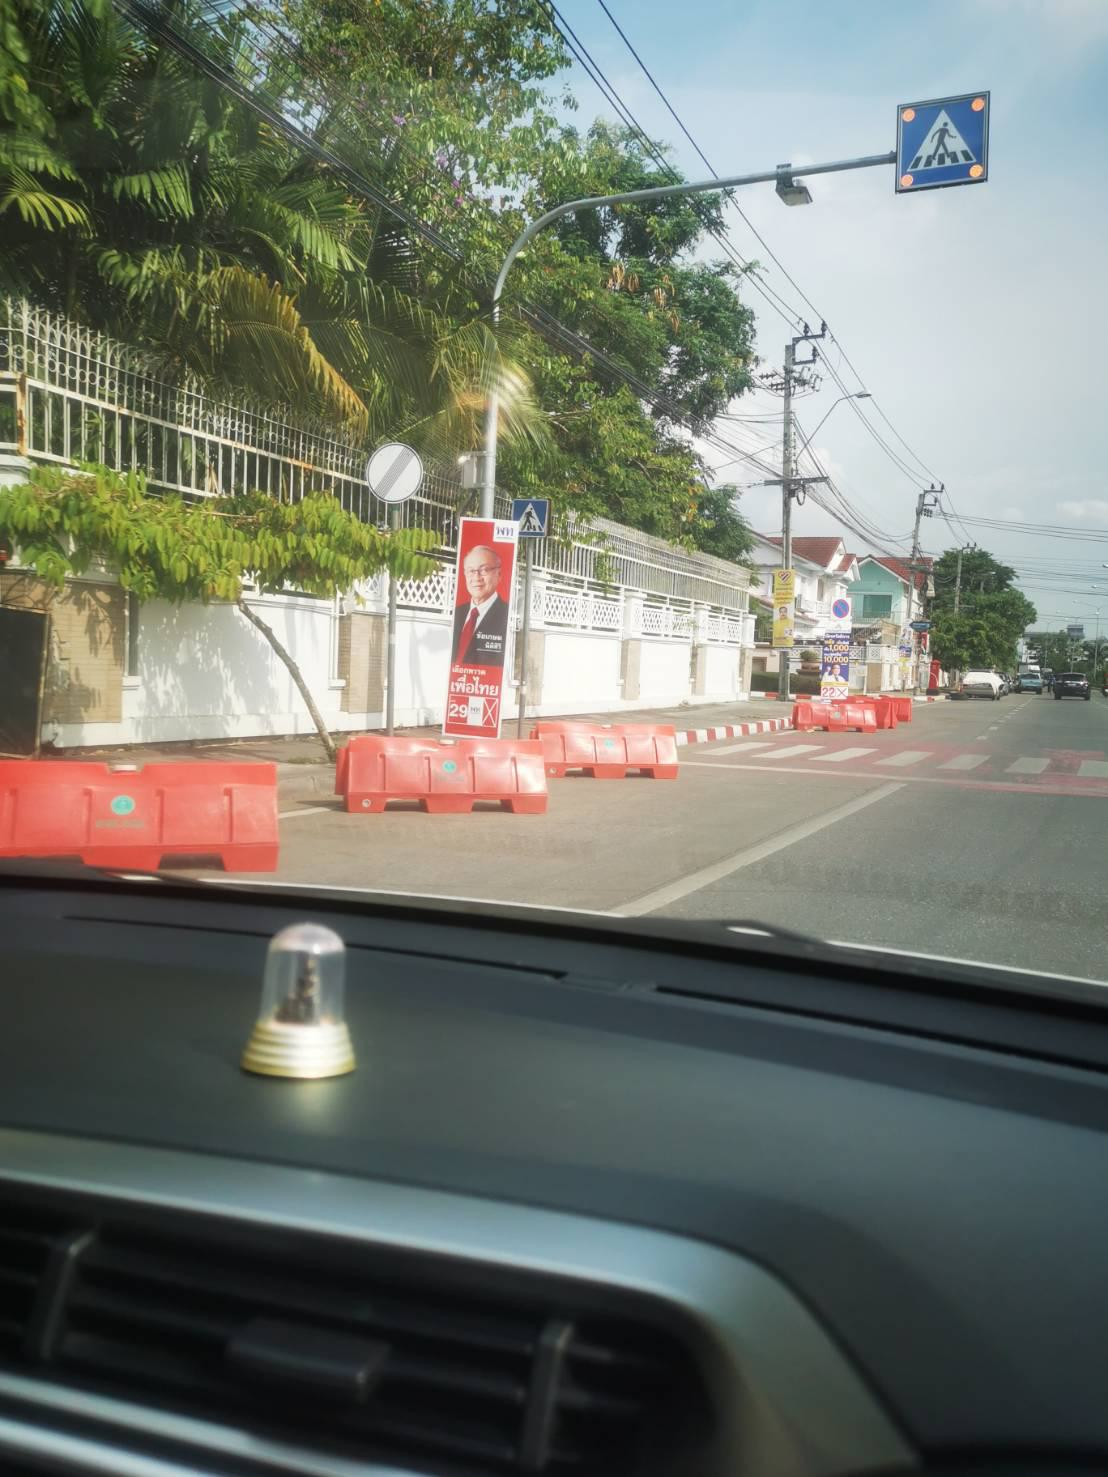Banner: (439, 503, 530, 745)
